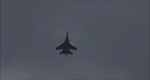maybay_muctieu: (55, 32, 78, 57)
